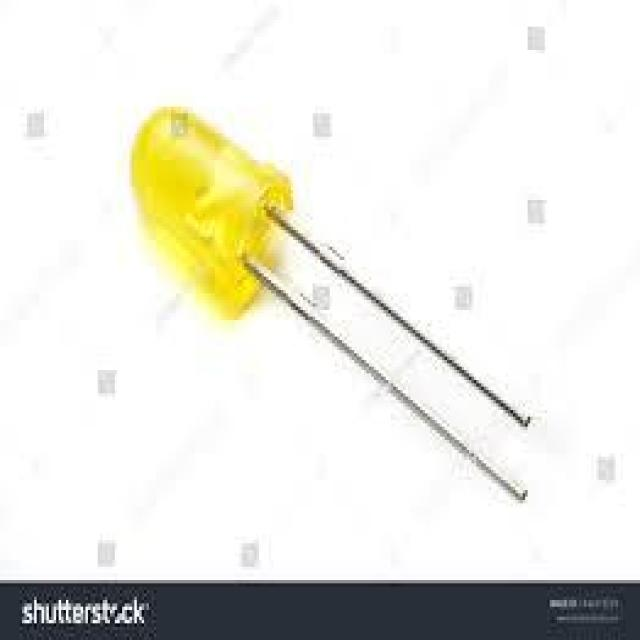Led: (131, 107, 530, 499)
